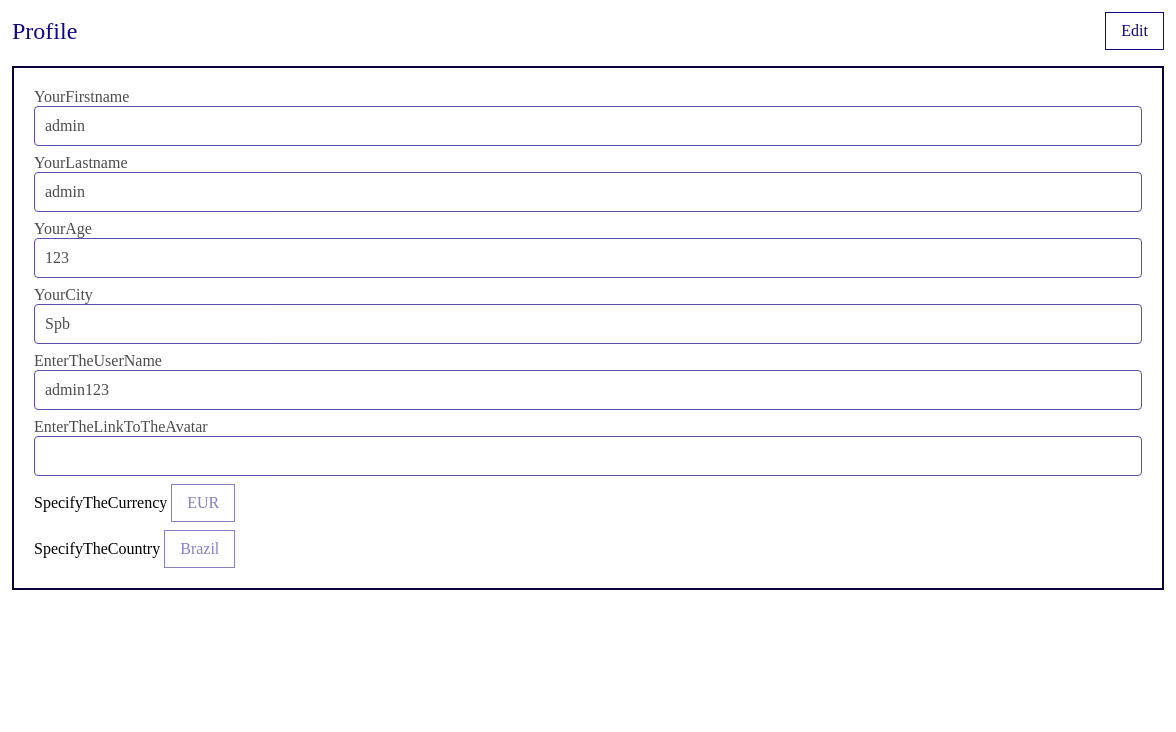
Test: features/EditableProfileCard › an error should appear
Click the button with test id "EditableProfileCardHeader.EditButton" at (1135, 31), box [1105, 12, 1164, 50]
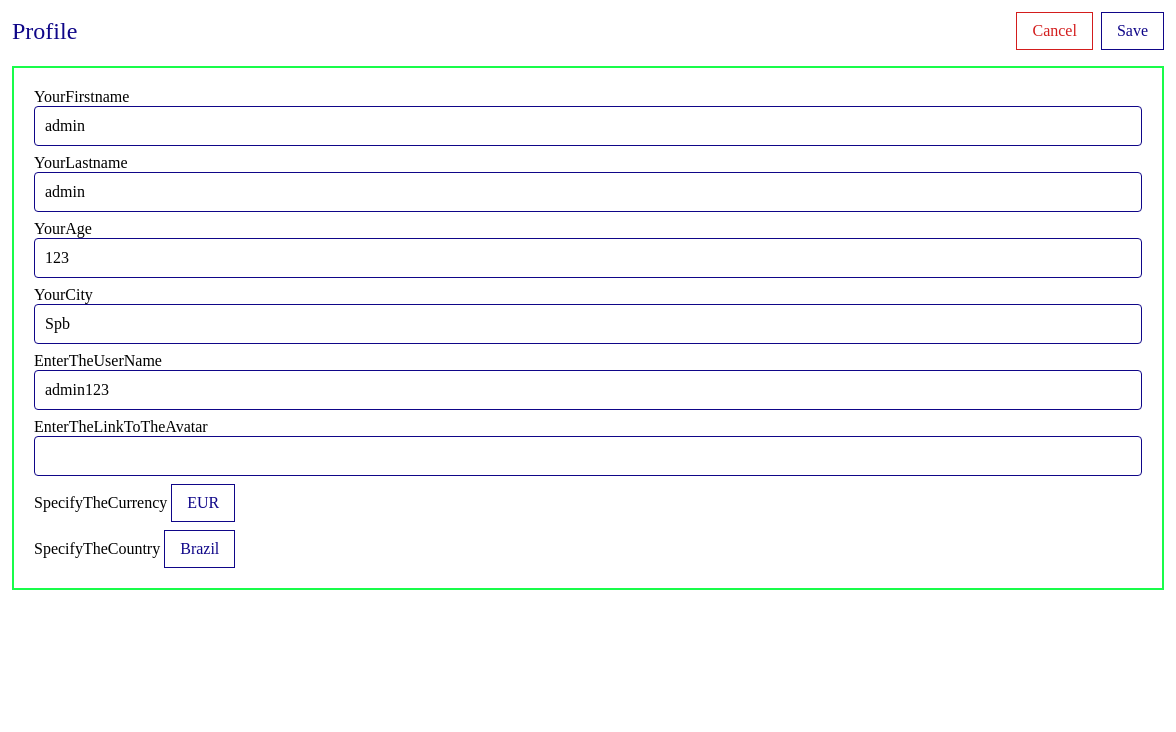
Clear the field with test id "ProfileCard.Firstname" at (588, 126), box [34, 106, 1142, 146]
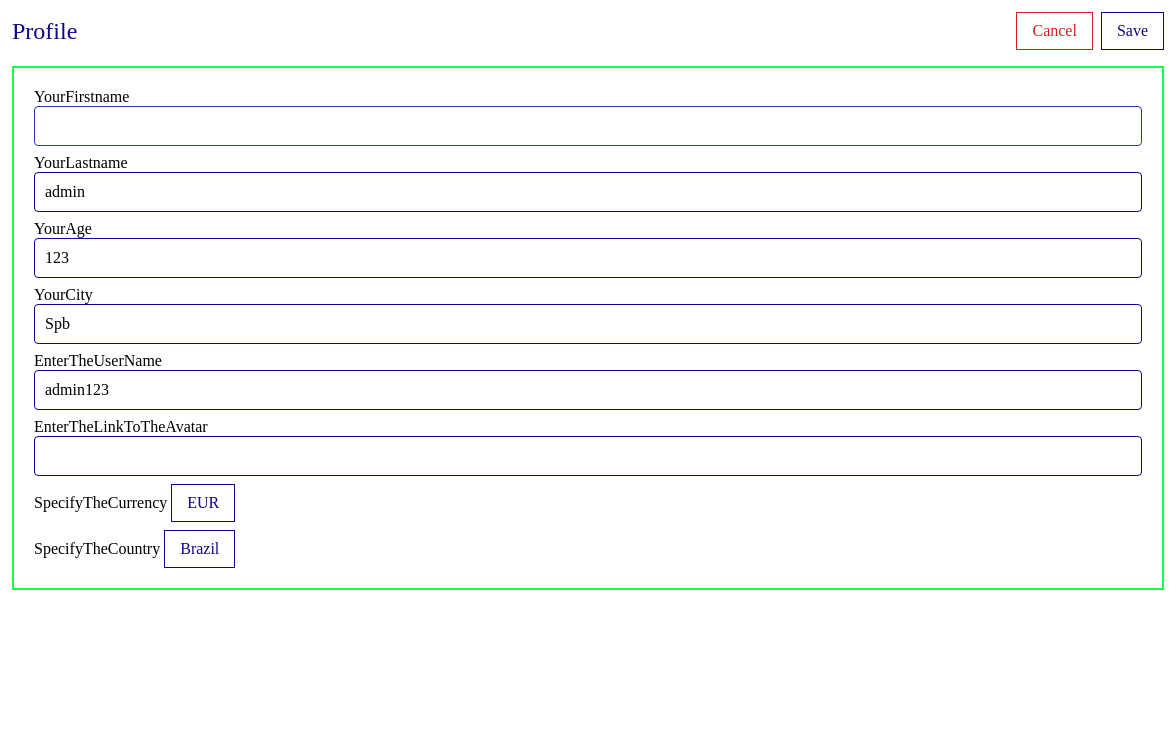
Click the button with test id "EditableProfileCardHeader.SaveButton" at (1132, 31), box [1101, 12, 1164, 50]
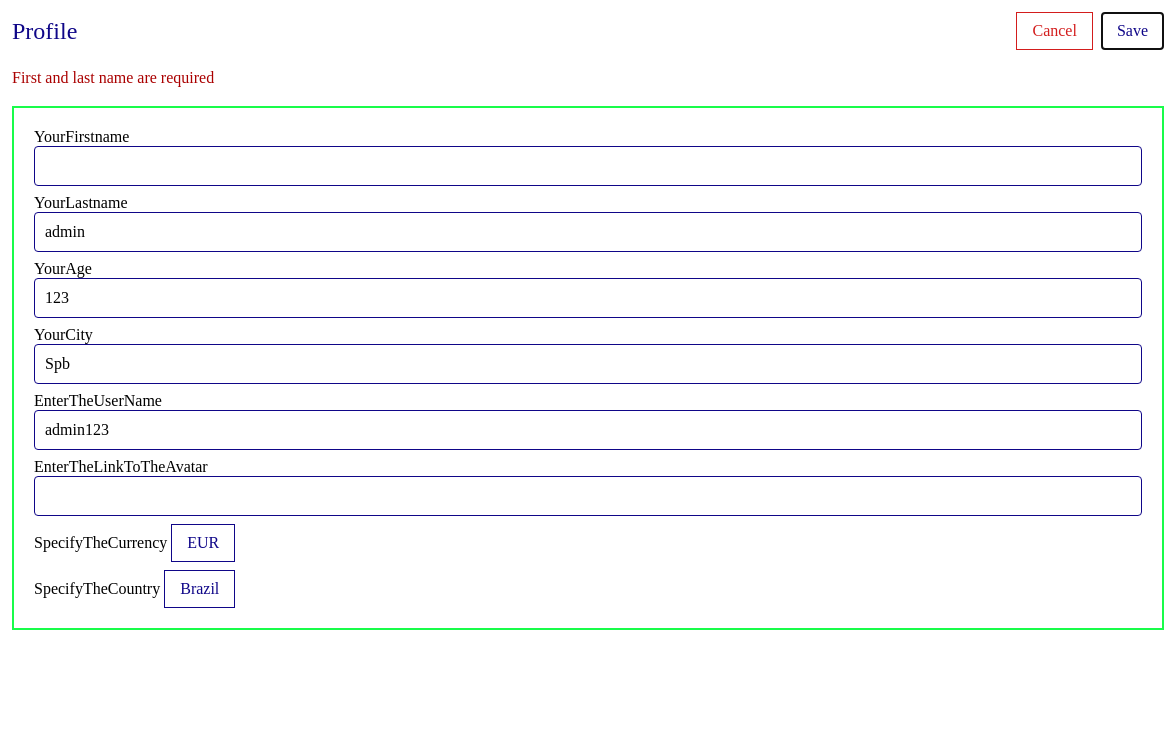
Expected: the text "First and last name are required" is shown, [12, 66, 214, 90]
